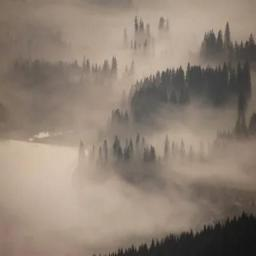Heavy smoke: (0, 1, 249, 244)
